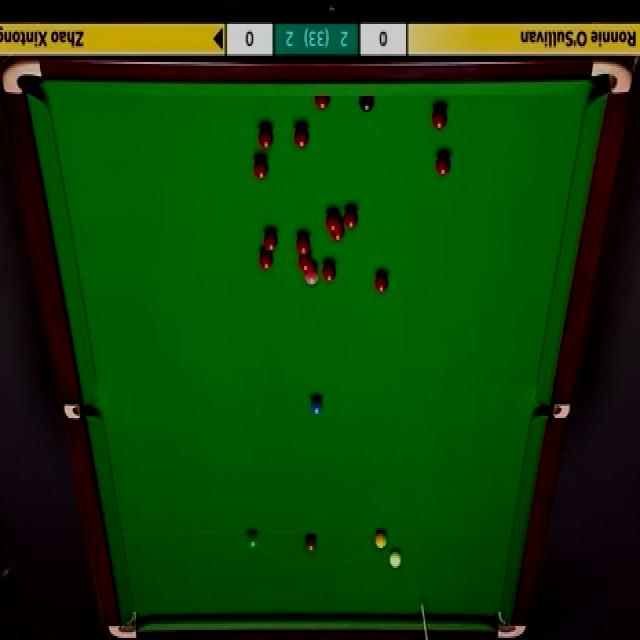black-ball: (359, 93, 375, 116)
blue-ball: (310, 396, 322, 415)
brown-ball: (305, 532, 317, 551)
green-ball: (245, 530, 260, 550)
pink-ball: (304, 266, 320, 288)
red-ball: (257, 124, 275, 152), (253, 155, 270, 182), (435, 153, 452, 178), (374, 270, 390, 296), (293, 127, 309, 153), (432, 107, 448, 132), (295, 232, 311, 256), (322, 261, 337, 285), (263, 229, 278, 253), (343, 208, 359, 230), (326, 211, 340, 235), (258, 252, 274, 272), (298, 254, 313, 272), (315, 96, 331, 111), (331, 225, 344, 243)
white-ball: (388, 547, 402, 572)
yellow-ball: (375, 530, 388, 552)
